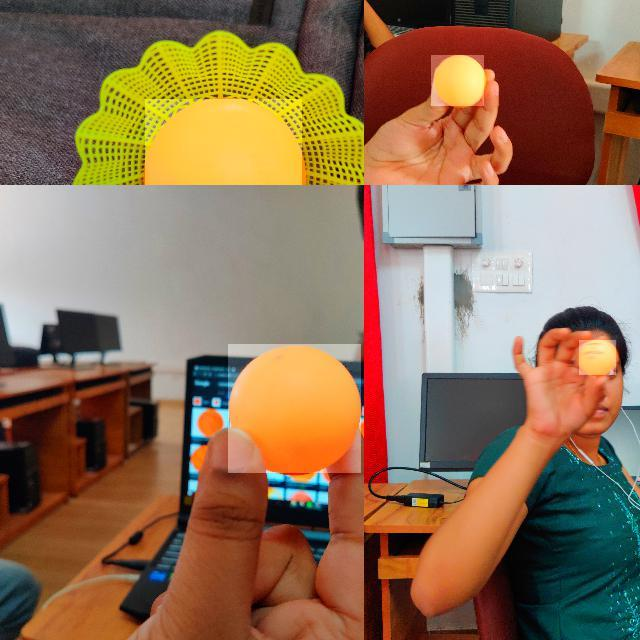ping-pong-ball: (228, 344, 362, 474), (145, 99, 304, 184), (431, 55, 485, 107), (579, 340, 617, 376)
